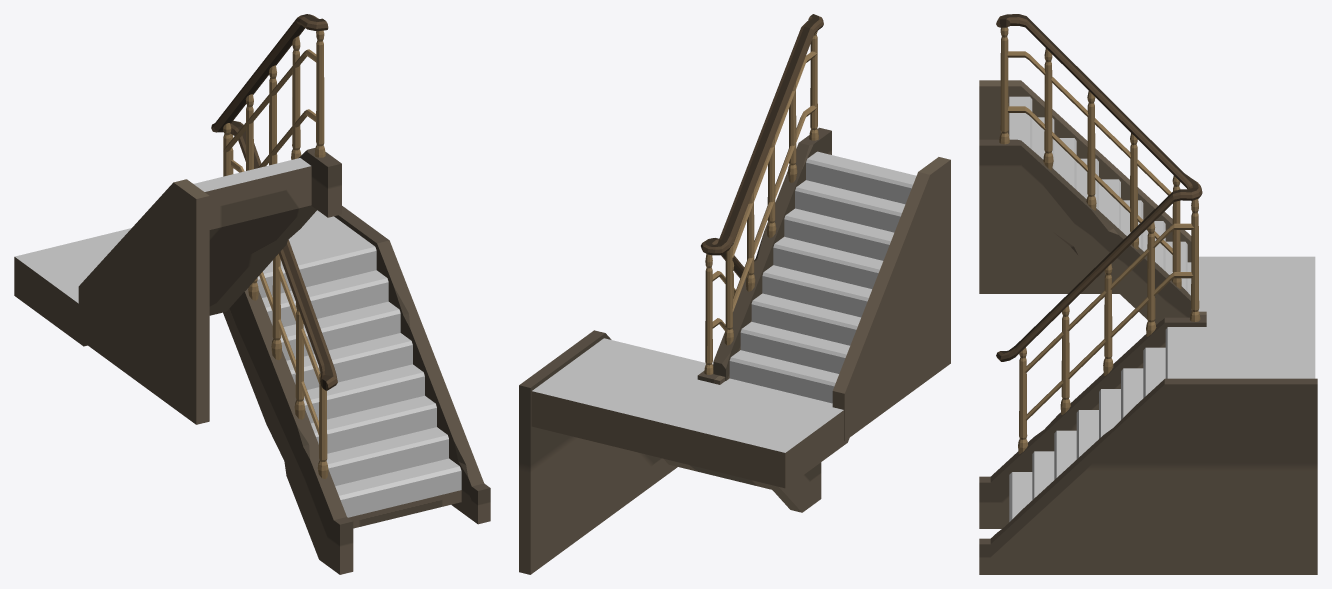
File: SM_Bld_Stairs_01.fbx
3 views of the same model, side by side, from view 1: azimuth 30°, elevation 25°; view 2: azimuth 150°, elevation 25°; view 3: azimuth 270°, elevation 25° (orthographic). The views are drawn at different scales.
Visible parts, largest first — view 1: SM_Bld_Stairs_01; view 2: SM_Bld_Stairs_01; view 3: SM_Bld_Stairs_01.
Boxes of the visible parts, x1=… form: SM_Bld_Stairs_01: x1=14, y1=14, x2=490, y2=574; SM_Bld_Stairs_01: x1=519, y1=14, x2=950, y2=574; SM_Bld_Stairs_01: x1=979, y1=14, x2=1317, y2=574.
Bounding box in the file's own units: 256 × 454 × 277.
